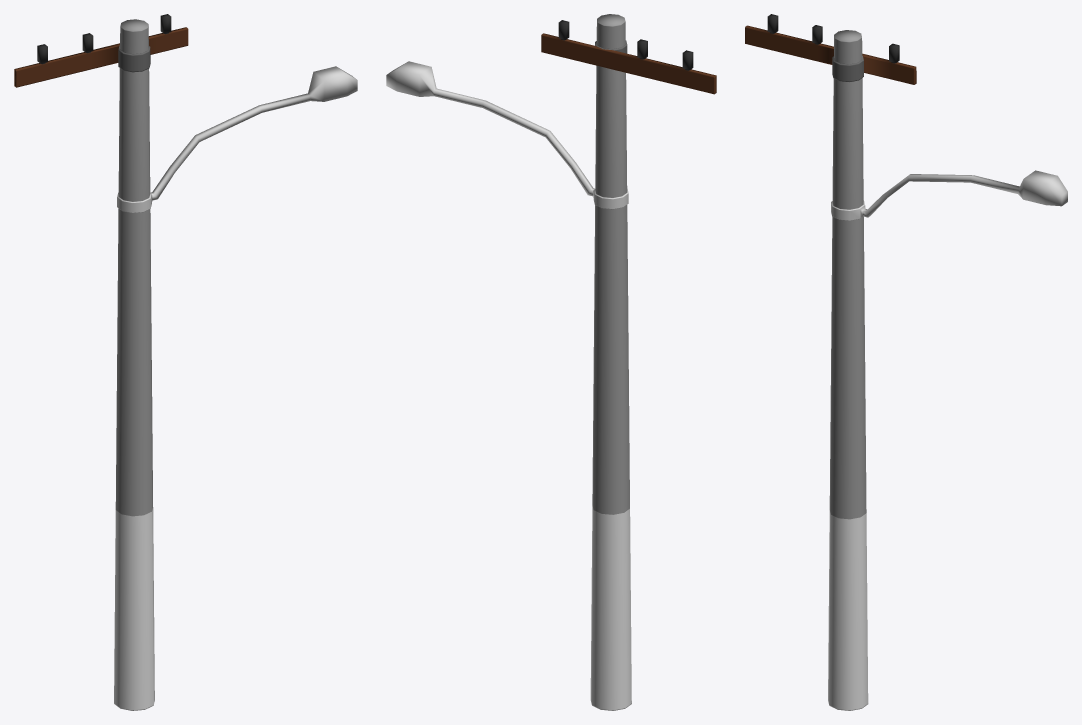
Rendered from MESH_PROP_Poste_Luz_A.fbx.
3 renders of one model, left to right at view 1: azimuth 30°, elevation 25°; view 2: azimuth 150°, elevation 25°; view 3: azimuth 330°, elevation 25°, orthographic. The views are drawn at different scales.
Parts seen in each view (by area): view 1: poste_luz_A; view 2: poste_luz_A; view 3: poste_luz_A.
Part boxes in pixels (x1,y1,x2,y2): poste_luz_A: (14, 14, 357, 710); poste_luz_A: (386, 14, 716, 710); poste_luz_A: (745, 14, 1067, 710).
Size of the model in its own units: 257 by 500 by 28.
